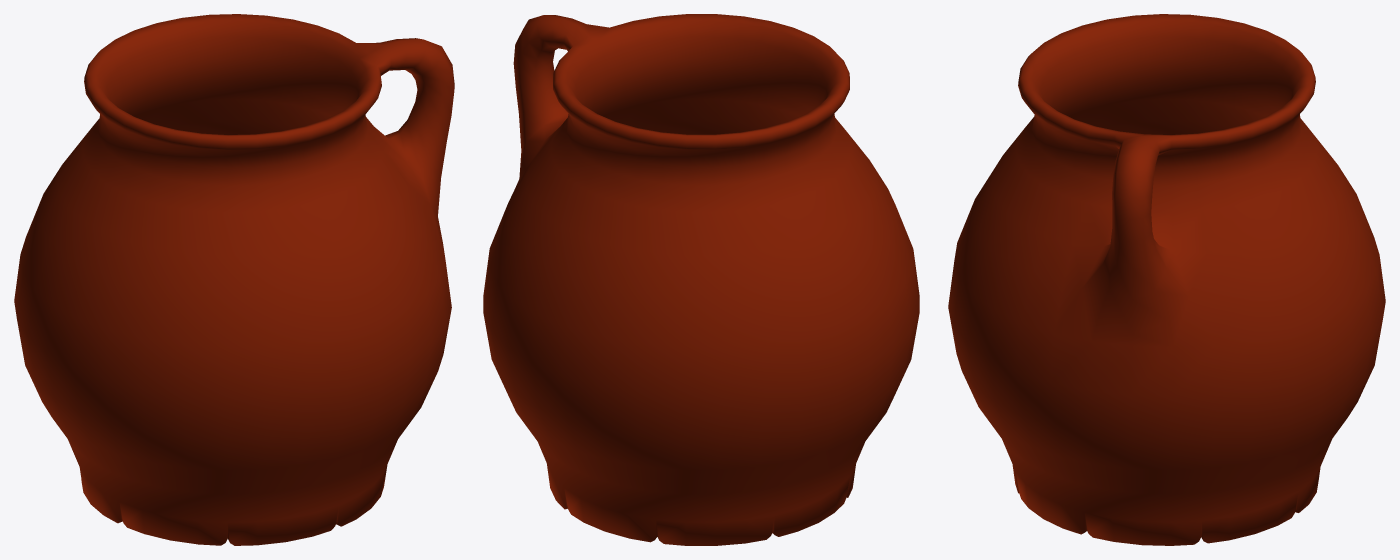
Rendered from oxygenPot.fbx.
3 renders of one model, left to right at view 1: azimuth 30°, elevation 25°; view 2: azimuth 150°, elevation 25°; view 3: azimuth 270°, elevation 25°, orthographic.
Visible parts, largest first — view 1: Plant.002; view 2: Plant.002; view 3: Plant.002.
Part boxes in pixels (x1=…): Plant.002: x1=14, y1=14, x2=454, y2=545; Plant.002: x1=483, y1=14, x2=919, y2=545; Plant.002: x1=948, y1=14, x2=1385, y2=545.
Bounding box in the file's own units: 192 × 194 × 186.
